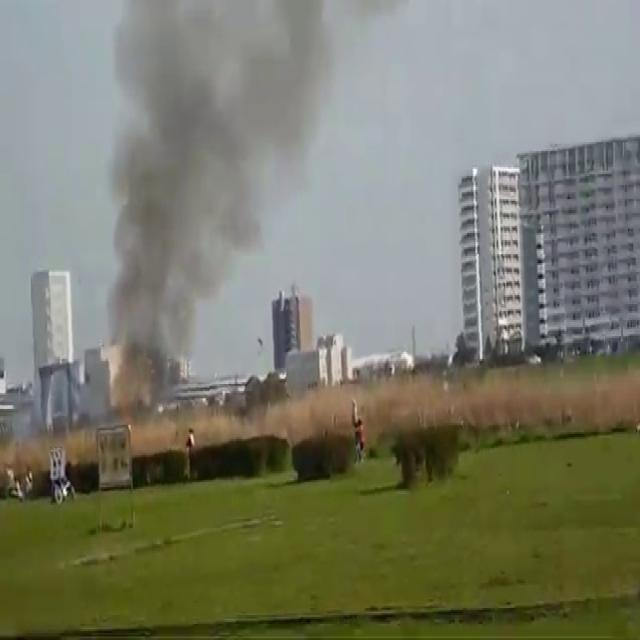Smoke: (92, 0, 326, 398)
